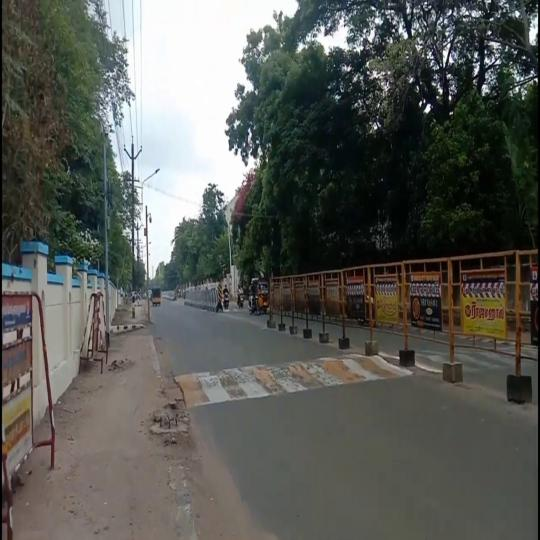Speed Bump: (173, 353, 414, 411), (462, 348, 514, 374), (415, 349, 443, 374)
